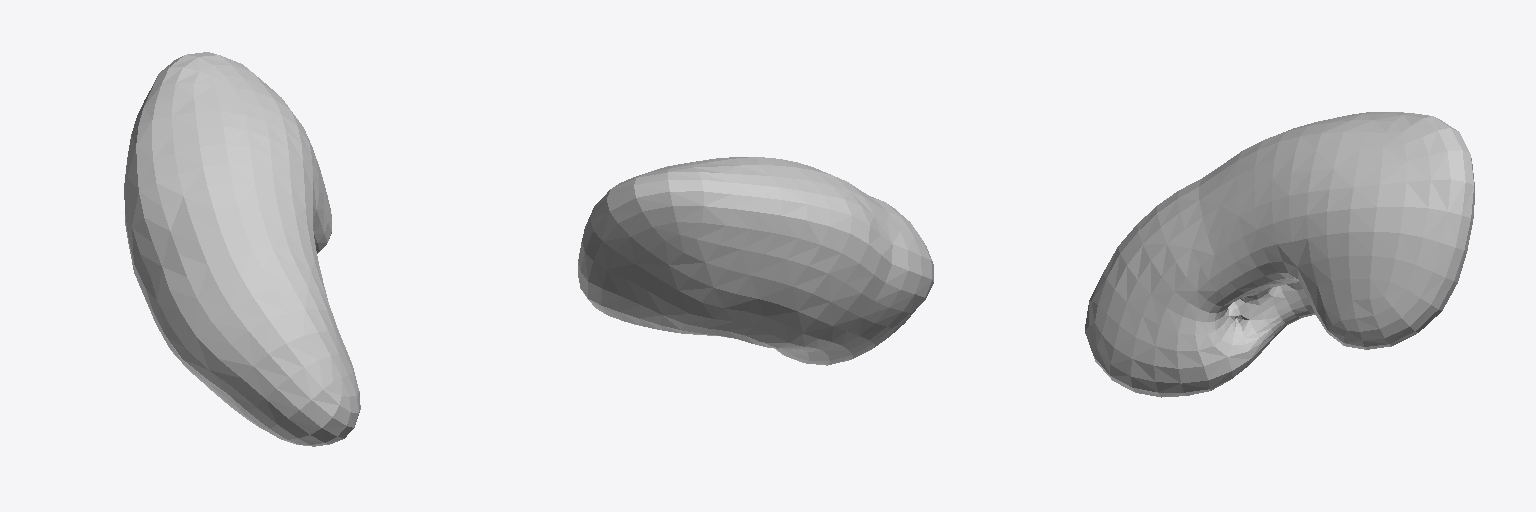
The model's file is 2K_Kidney_Left.OBJ.
3 renders of one model, left to right at view 1: azimuth 30°, elevation 25°; view 2: azimuth 150°, elevation 25°; view 3: azimuth 270°, elevation 25°, orthographic.
Visible parts, largest first — view 1: ZBrushPolyMesh3D; view 2: ZBrushPolyMesh3D; view 3: ZBrushPolyMesh3D.
Part boxes in pixels (bbox=[...]): ZBrushPolyMesh3D: bbox=[124, 52, 360, 446]; ZBrushPolyMesh3D: bbox=[578, 157, 933, 365]; ZBrushPolyMesh3D: bbox=[1085, 112, 1474, 397].
Size of the model in its own units: 9.28 by 10.1 by 13.09.